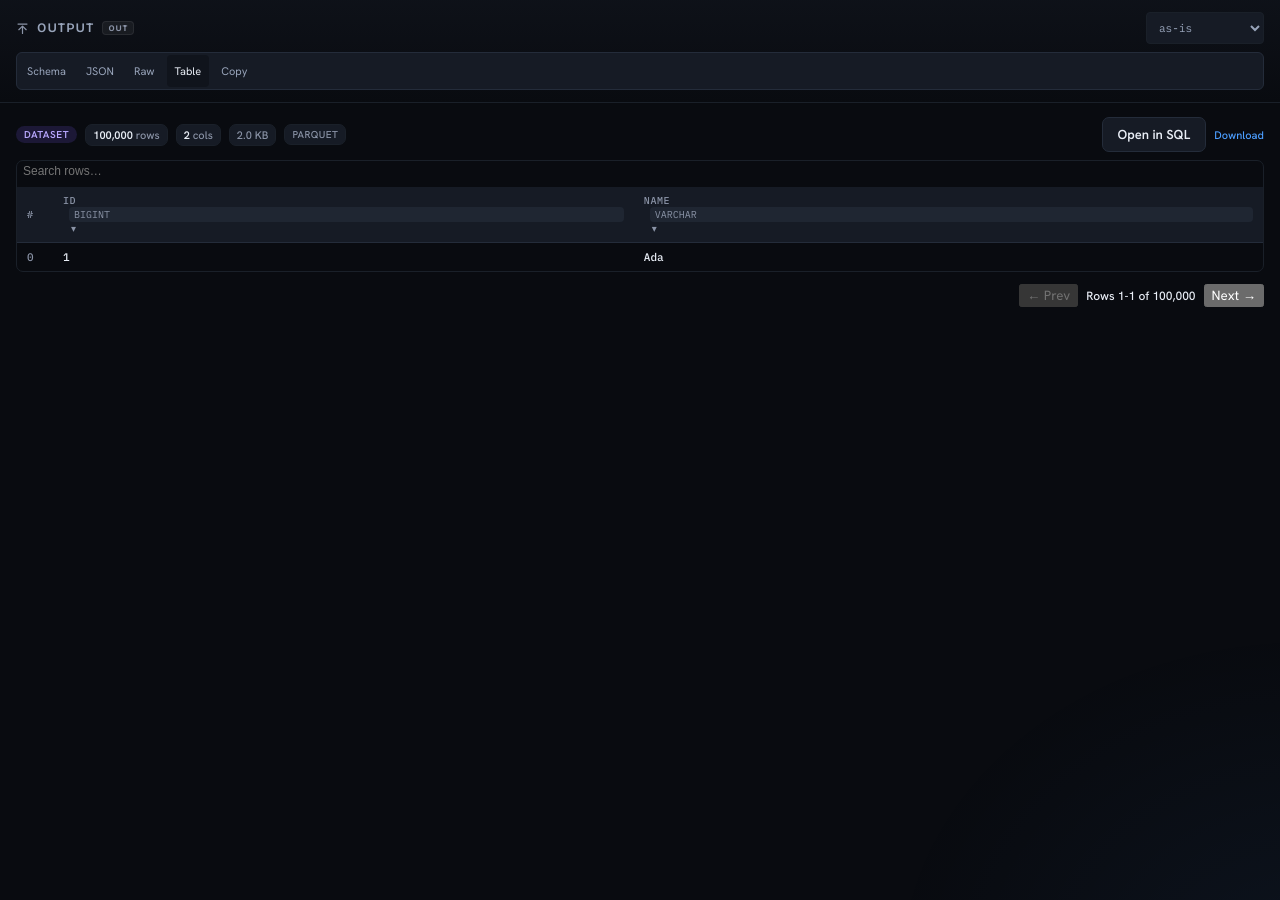
DatasetGrid › streams DatasetRef rows from the artifact query API
Expected: the text "Ada" is shown, left=634, top=242, right=1263, bottom=271
Step 1. Click the button "Next →" → (1234, 296), box left=1204, top=284, right=1264, bottom=307
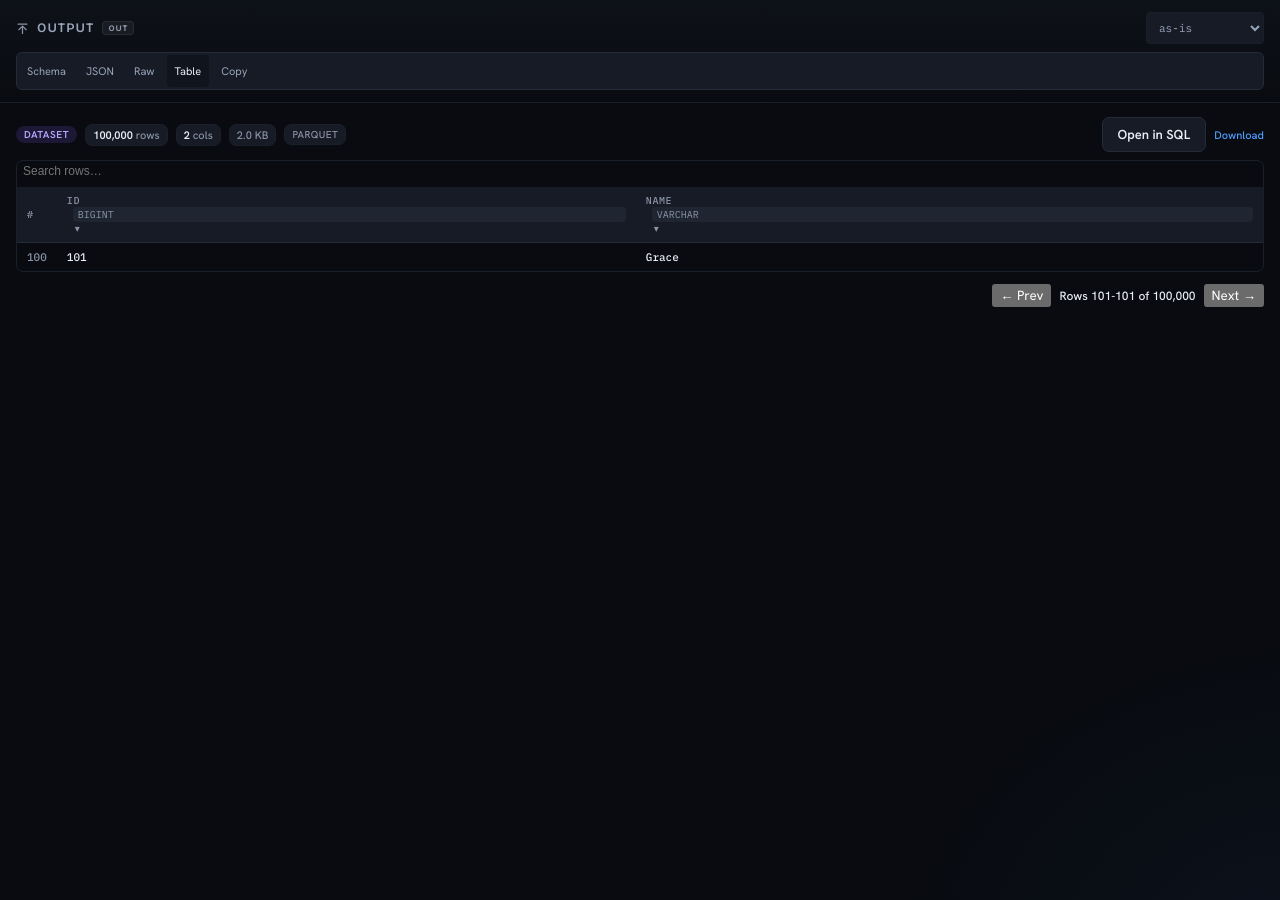
Now the text "Grace" is shown, box left=636, top=242, right=1263, bottom=271
Now the text "Rows 101-101 of 100,000" is shown, box left=1059, top=288, right=1196, bottom=304
